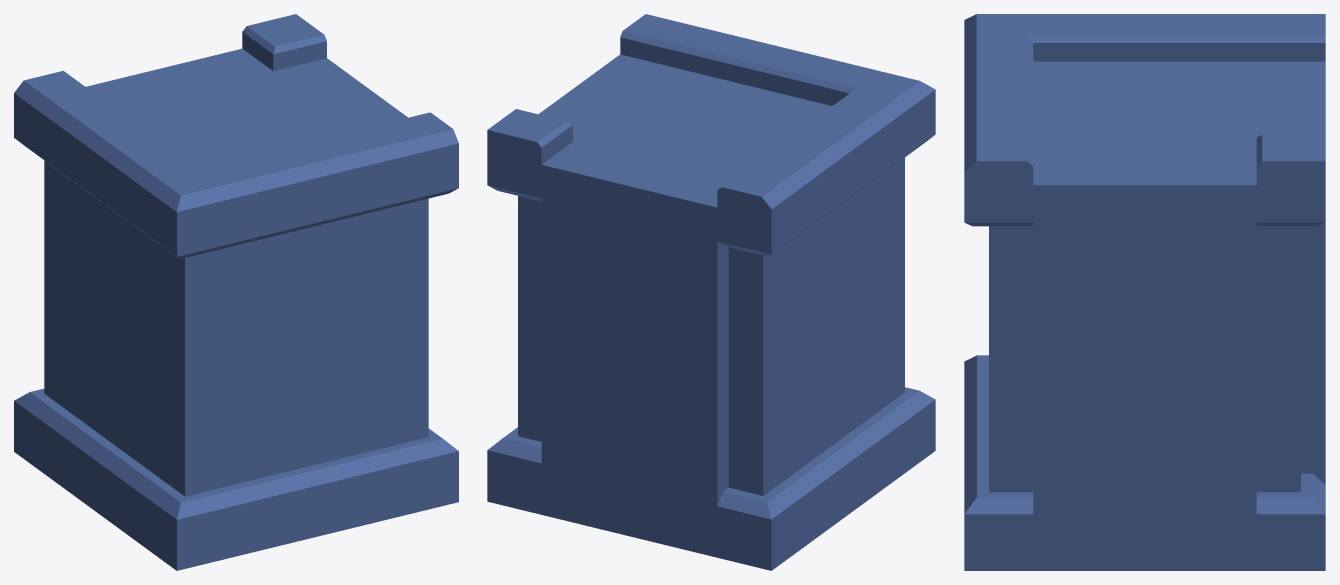
Rendered from Wall_Corner_01.fbx.
The picture shows the model from 3 angles, left to right: view 1: azimuth 30°, elevation 25°; view 2: azimuth 150°, elevation 25°; view 3: azimuth 270°, elevation 25°; orthographic projection. The views are drawn at different scales.
Visible parts, largest first — view 1: Wall_Corner_01; view 2: Wall_Corner_01; view 3: Wall_Corner_01.
Boxes of the visible parts, left/top/right/bottom form: Wall_Corner_01: left=14, top=14, right=458, bottom=570; Wall_Corner_01: left=487, top=14, right=935, bottom=570; Wall_Corner_01: left=964, top=14, right=1325, bottom=570.
Size of the model in its own units: 160 by 200 by 160.
